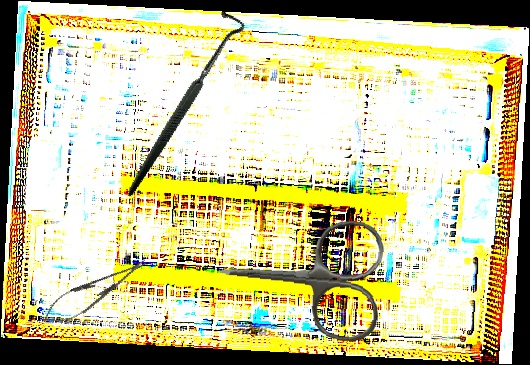Hook Surgical: (70, 3, 292, 199)
Iris Scissors: (214, 210, 386, 344)
Needle Holder: (37, 250, 153, 333)
